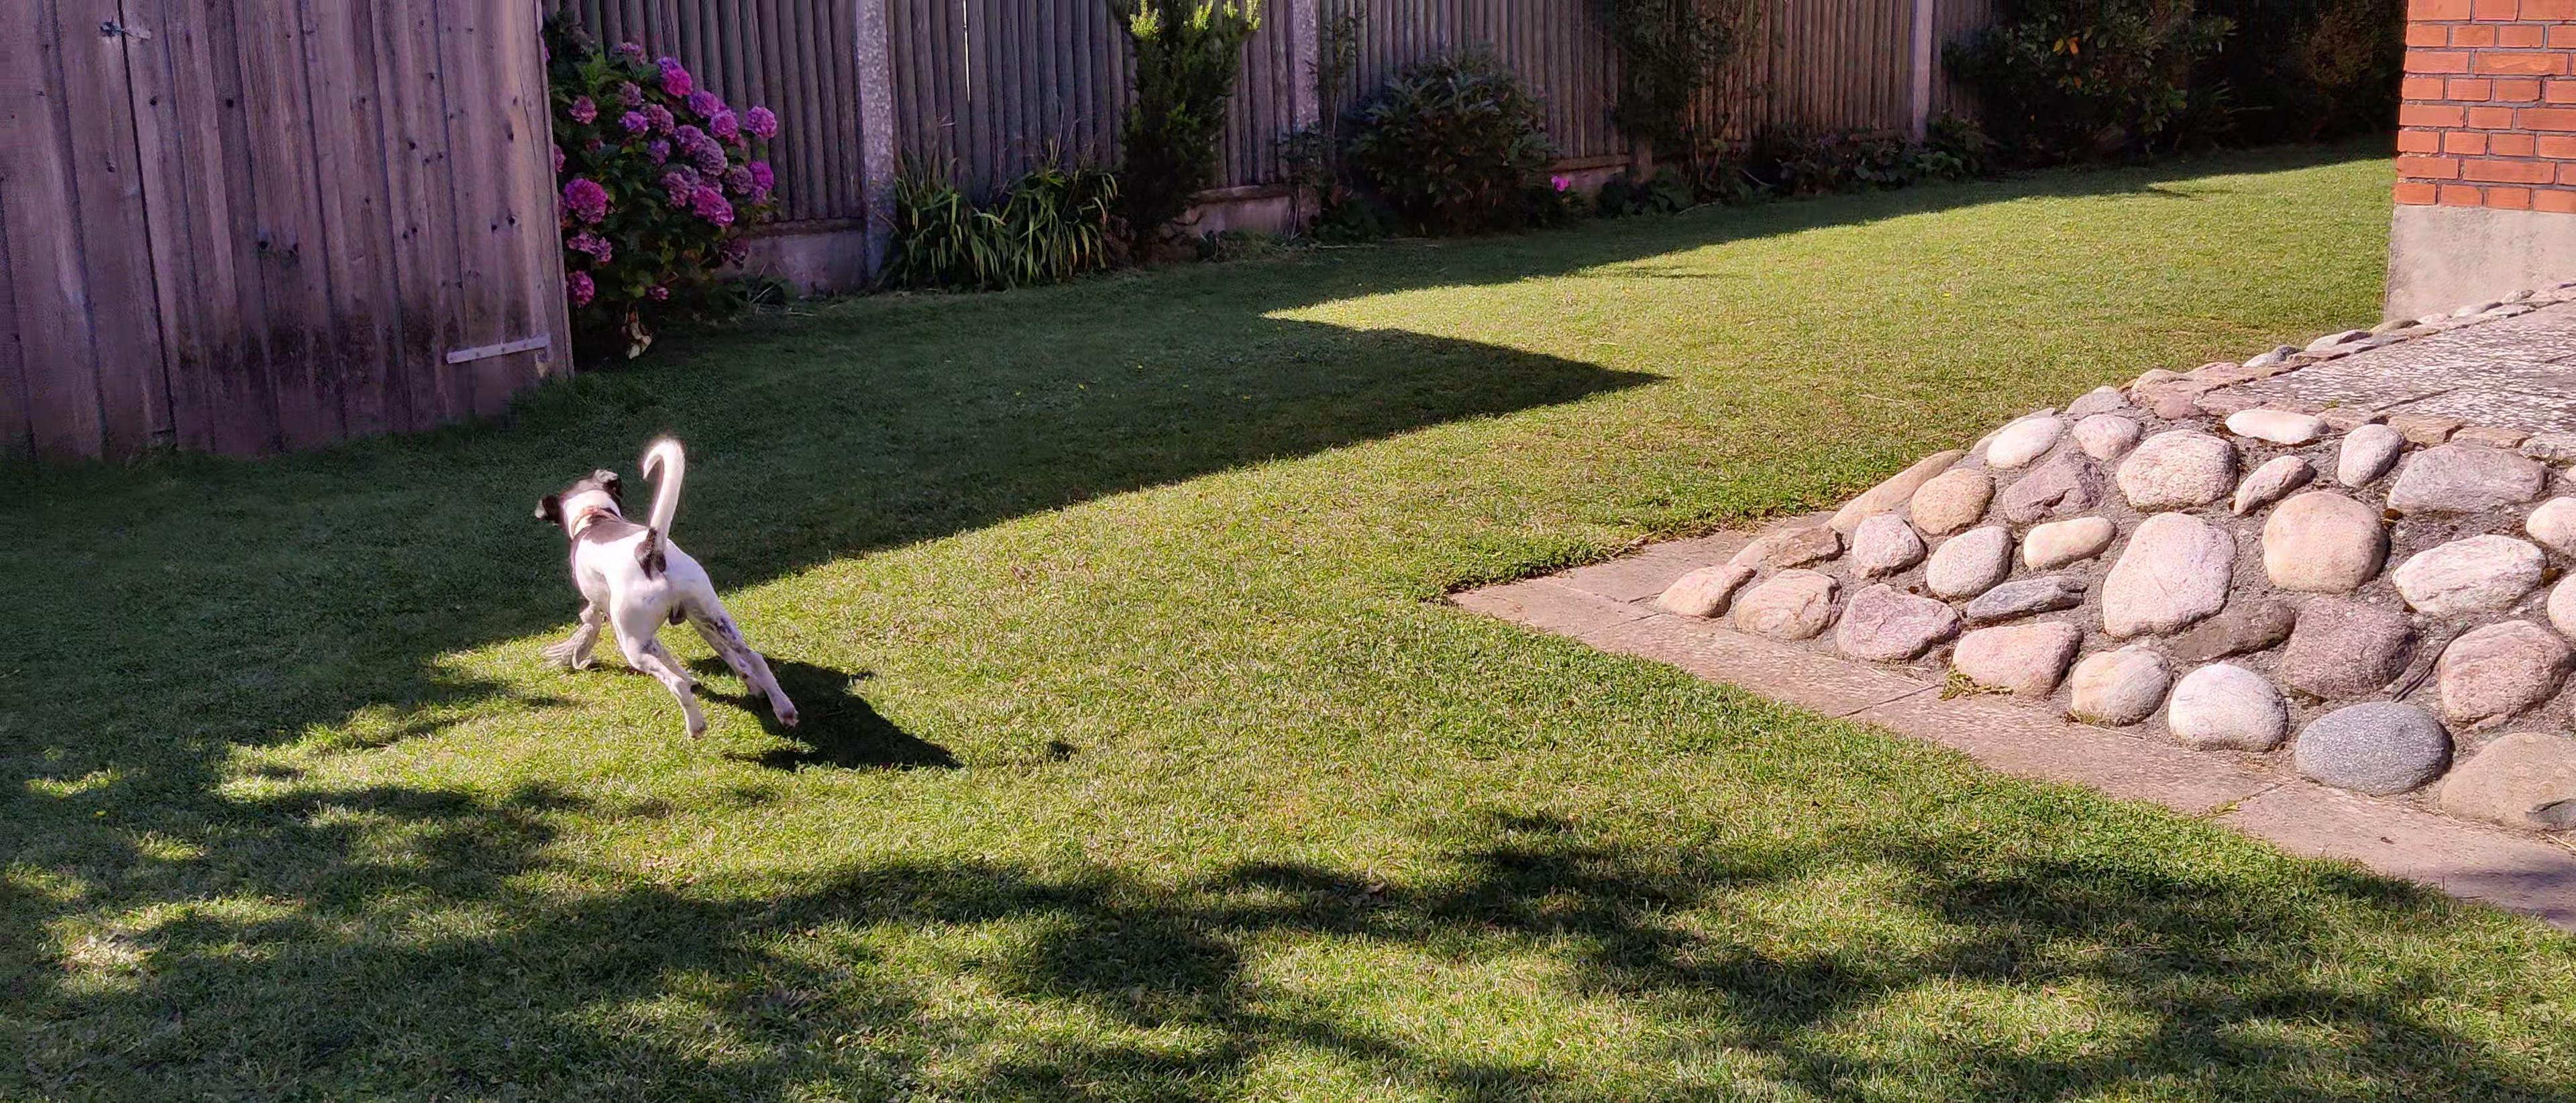Dog: (508, 409, 807, 748)
